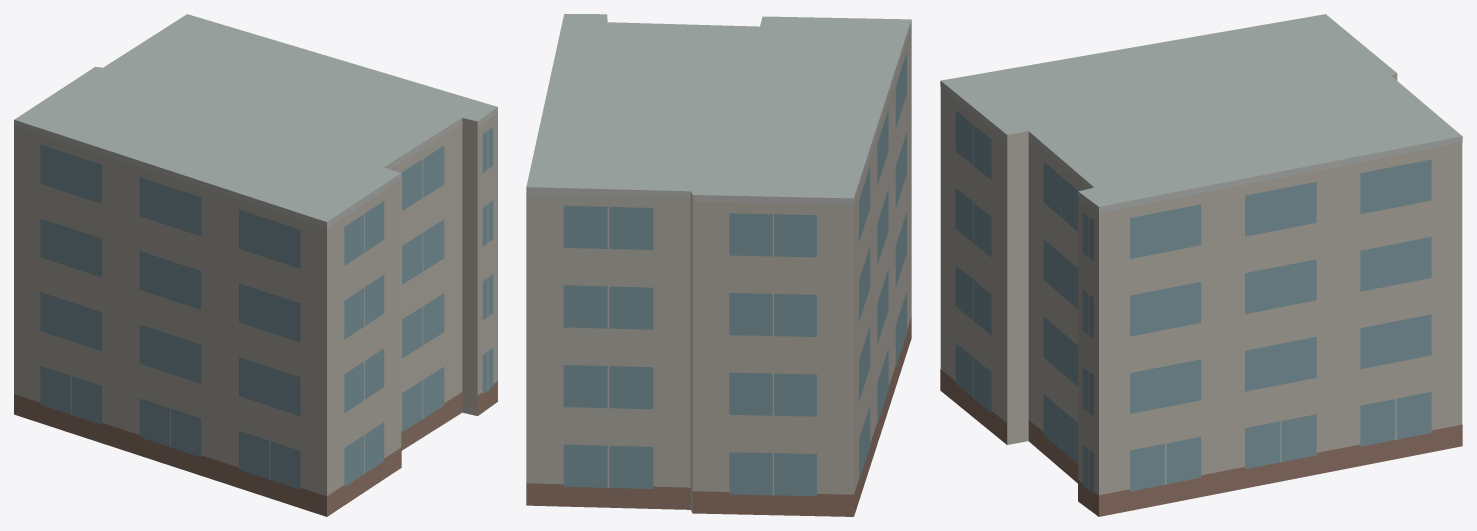
File: survey-upis-32769507.glb
3 views of the same model, side by side, from view 1: azimuth 30°, elevation 25°; view 2: azimuth 150°, elevation 25°; view 3: azimuth 270°, elevation 25° (orthographic). The views are drawn at different scales.
Visible parts, largest first — view 1: survey-upis-32769507.tmp; view 2: survey-upis-32769507.tmp; view 3: survey-upis-32769507.tmp.
Boxes of the visible parts, x1,y1,x2,y2 form: survey-upis-32769507.tmp: (14,14,497,516); survey-upis-32769507.tmp: (526,14,911,516); survey-upis-32769507.tmp: (940,14,1462,516).
Size of the model in its own units: 16.29 by 12.2 by 18.63.
